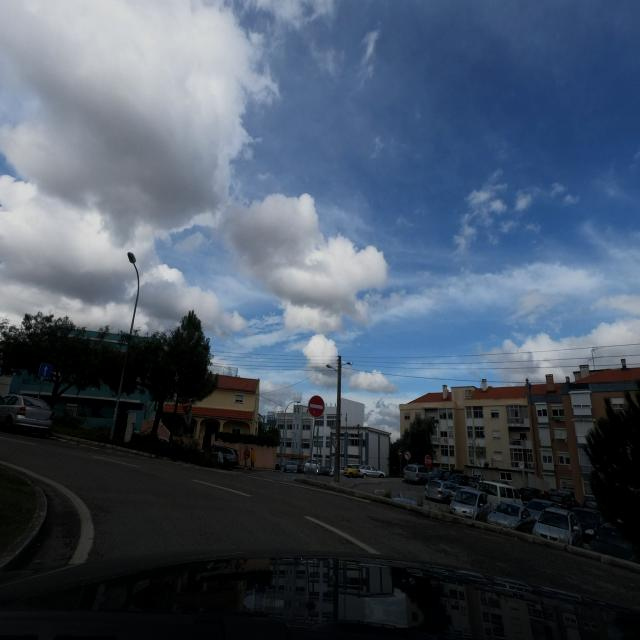car: (0, 392, 53, 437), (528, 507, 584, 546), (448, 487, 488, 515), (570, 507, 599, 542), (424, 480, 460, 504), (210, 445, 240, 470), (402, 463, 430, 485), (354, 465, 386, 479), (302, 458, 322, 474), (285, 458, 305, 474), (343, 464, 360, 478)
